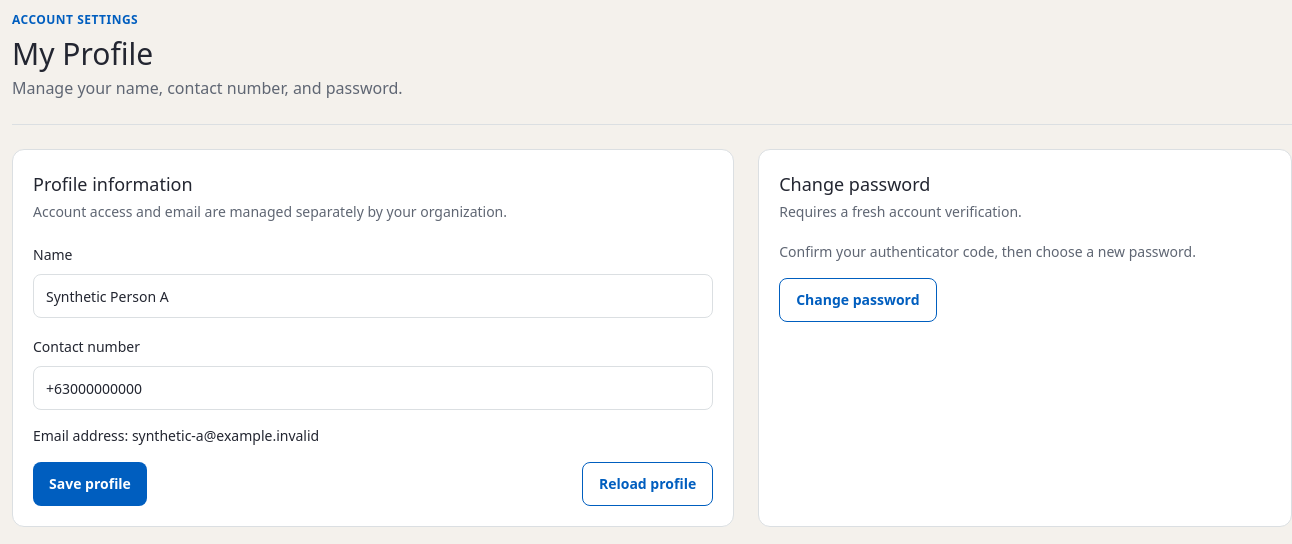
own profile editing › does not apply an old save result or notice to a new session for the same account
Check: the field labelled "Name" is shown, box [33,274,713,318]
Click the button "Save profile".
click(90, 484)  # box [33,462,147,506]
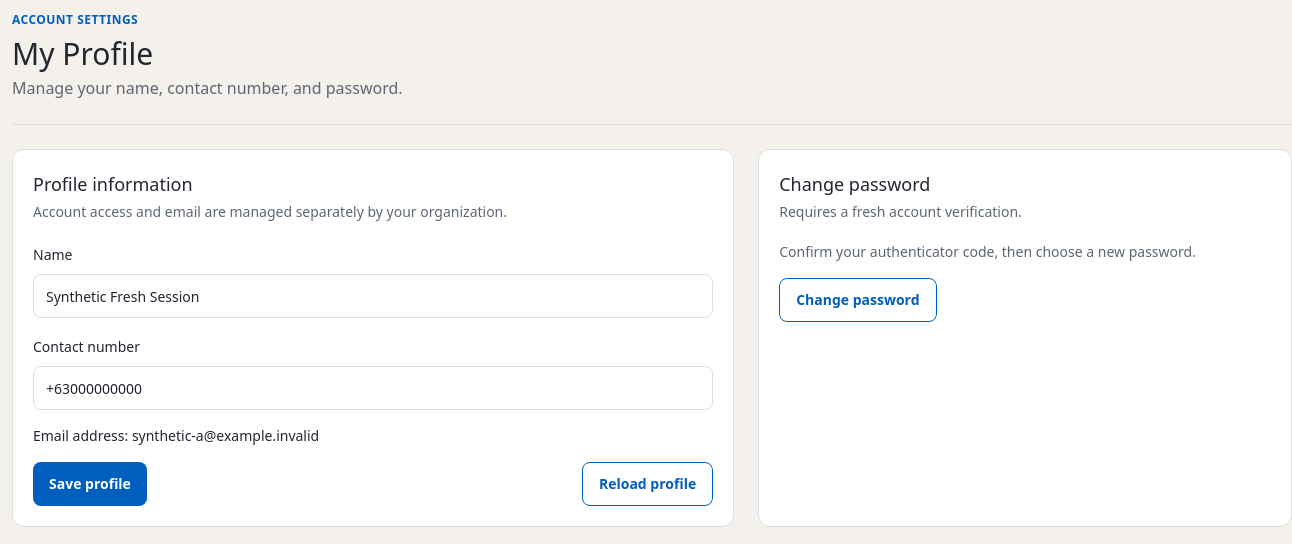
Check: the field showing "Synthetic Fresh Session" is shown, box [33,274,713,318]
